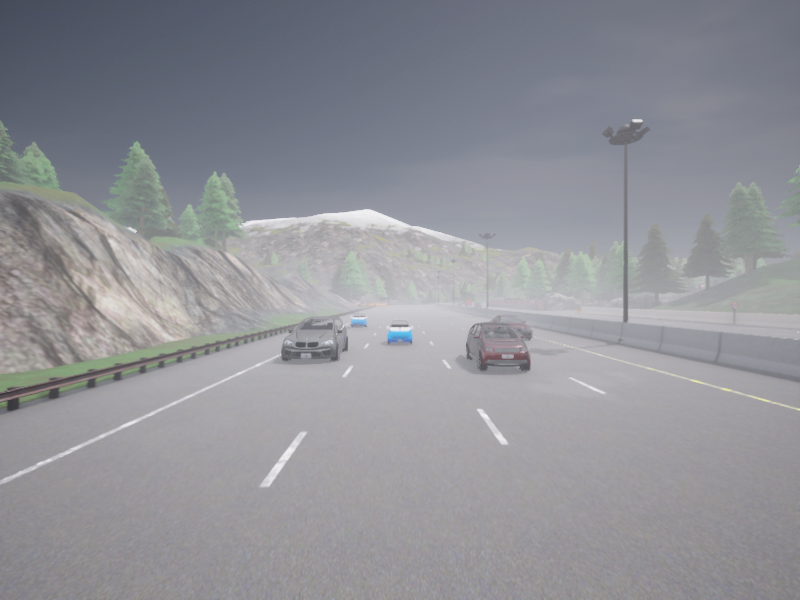vehicle: (465, 323, 529, 370), (281, 316, 348, 360), (489, 315, 533, 339), (386, 319, 413, 344), (350, 312, 367, 327), (465, 300, 471, 305), (473, 303, 480, 307), (457, 302, 461, 305), (477, 301, 482, 303), (462, 302, 465, 304)
